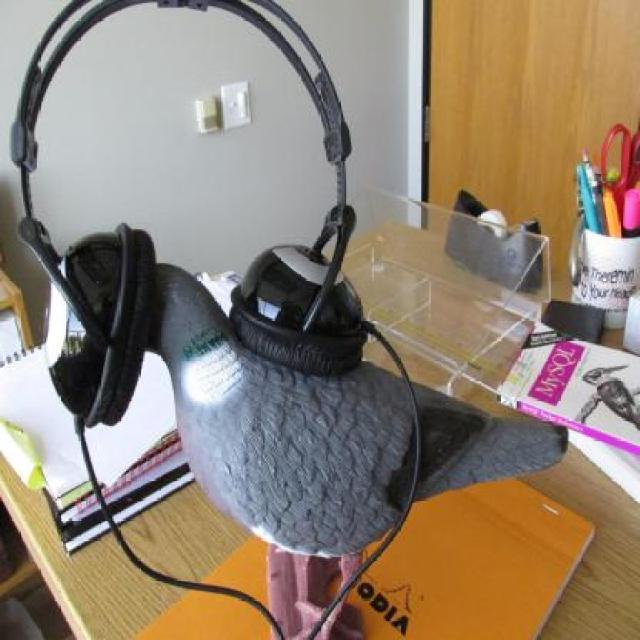earphone: (17, 12, 365, 410)
